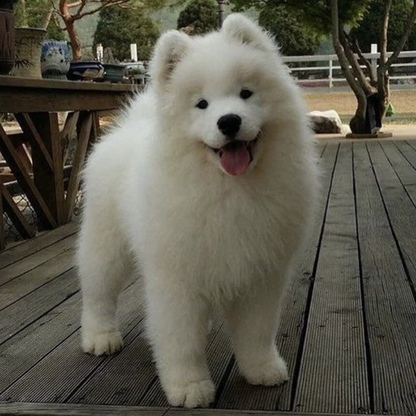samoyed: (69, 6, 327, 416)
